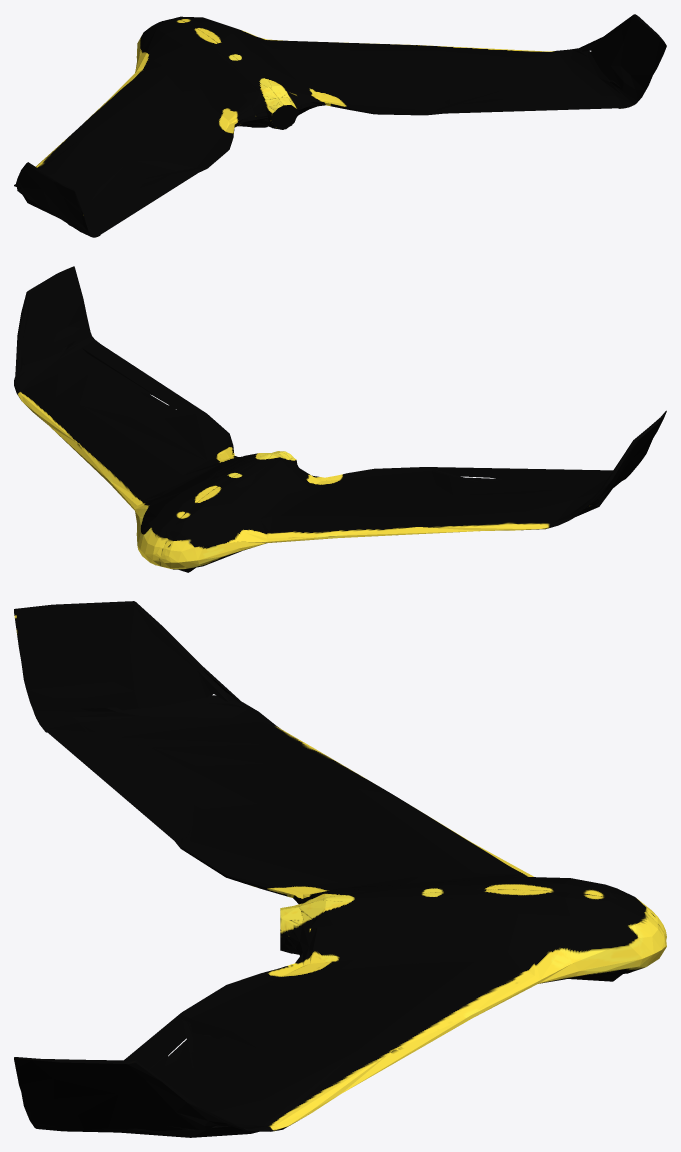
File: sensefly_ebee.obj
The picture shows the model from 3 angles, top to bottom: view 1: azimuth 30°, elevation 25°; view 2: azimuth 150°, elevation 25°; view 3: azimuth 270°, elevation 25°; orthographic projection. The views are drawn at different scales.
Parts seen in each view (by area): view 1: node_shape0.001; view 2: node_shape0.001; view 3: node_shape0.001.
Part boxes in pixels (x1,y1,x2,y2): node_shape0.001: [14, 14, 666, 237]; node_shape0.001: [14, 266, 666, 572]; node_shape0.001: [14, 601, 666, 1137].
Size of the model in its own units: 0.9472 by 0.1373 by 0.5656.
1 material, 1 textured.
